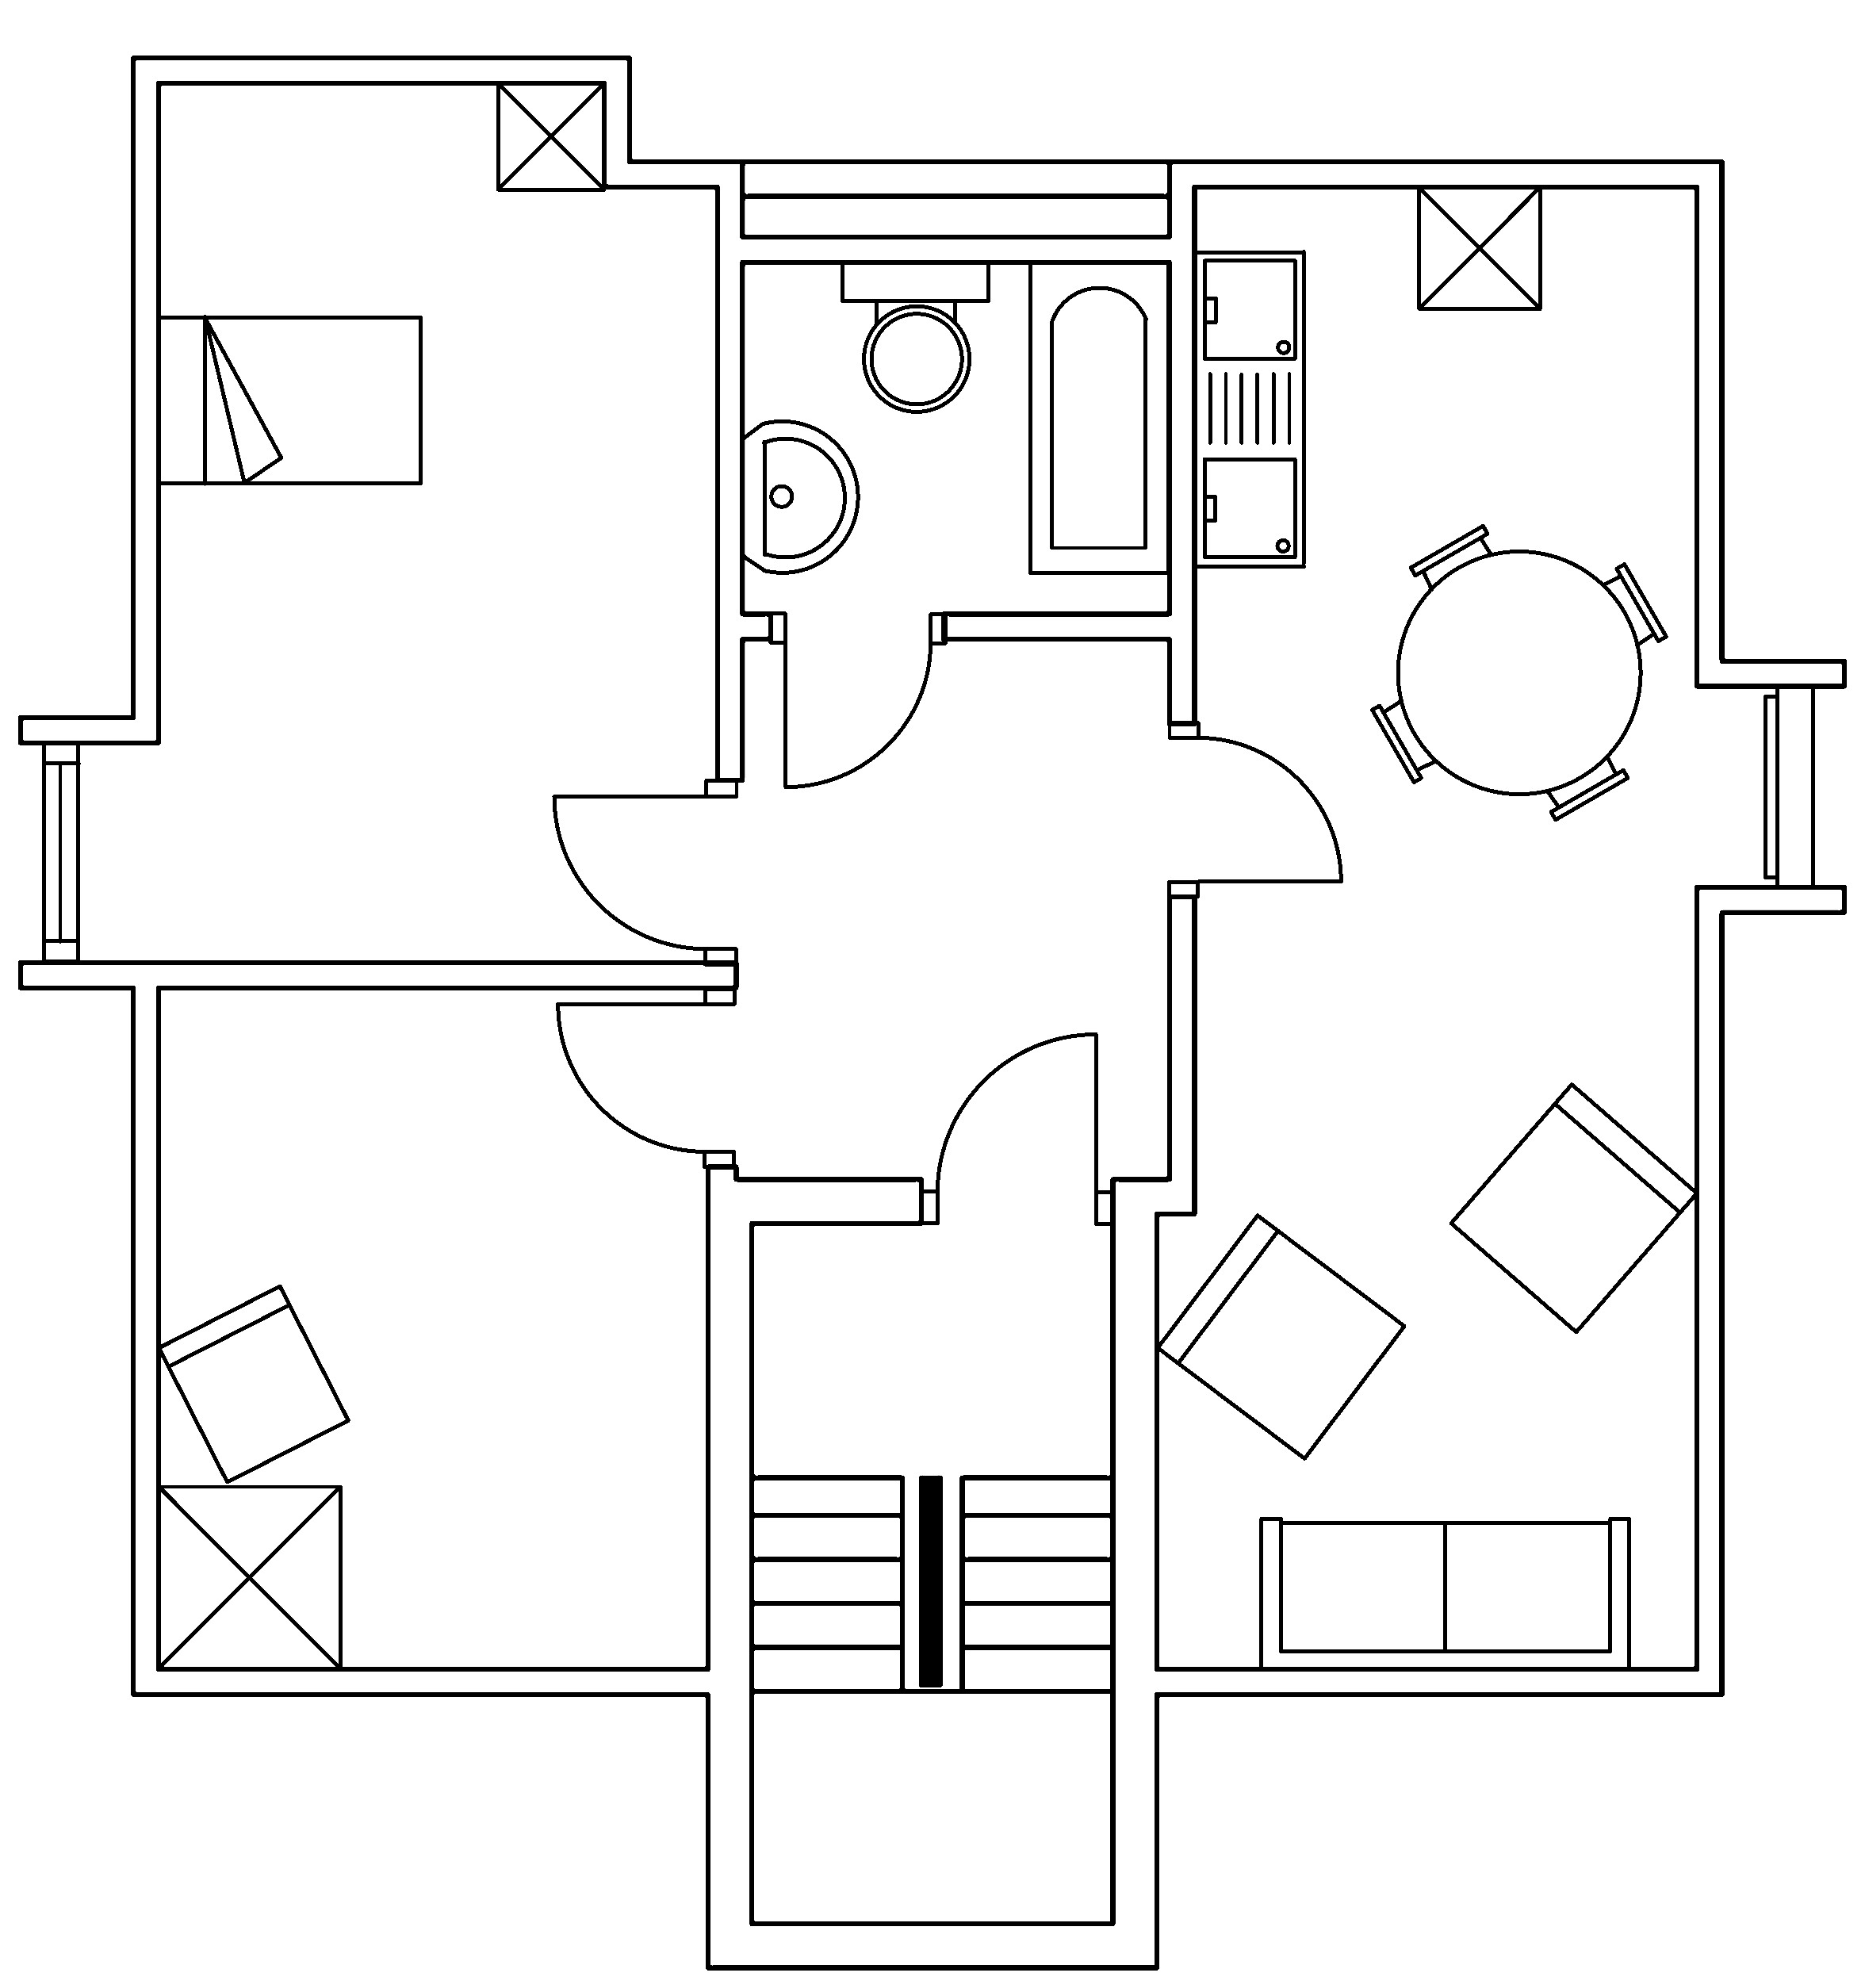bed: (154, 314, 422, 486)
coffee_table: (154, 1481, 342, 1671), (1416, 182, 1542, 310), (494, 79, 606, 191)
large_sink: (840, 258, 990, 412)
large_sofa: (1257, 1515, 1632, 1672)
round_table: (1369, 522, 1669, 822)
small_sink: (740, 419, 859, 573)
small_sofa: (1448, 1080, 1698, 1334), (1153, 1211, 1408, 1460), (156, 1282, 351, 1485)
tub: (1027, 258, 1171, 575)
twin_sink: (1192, 247, 1308, 570)
